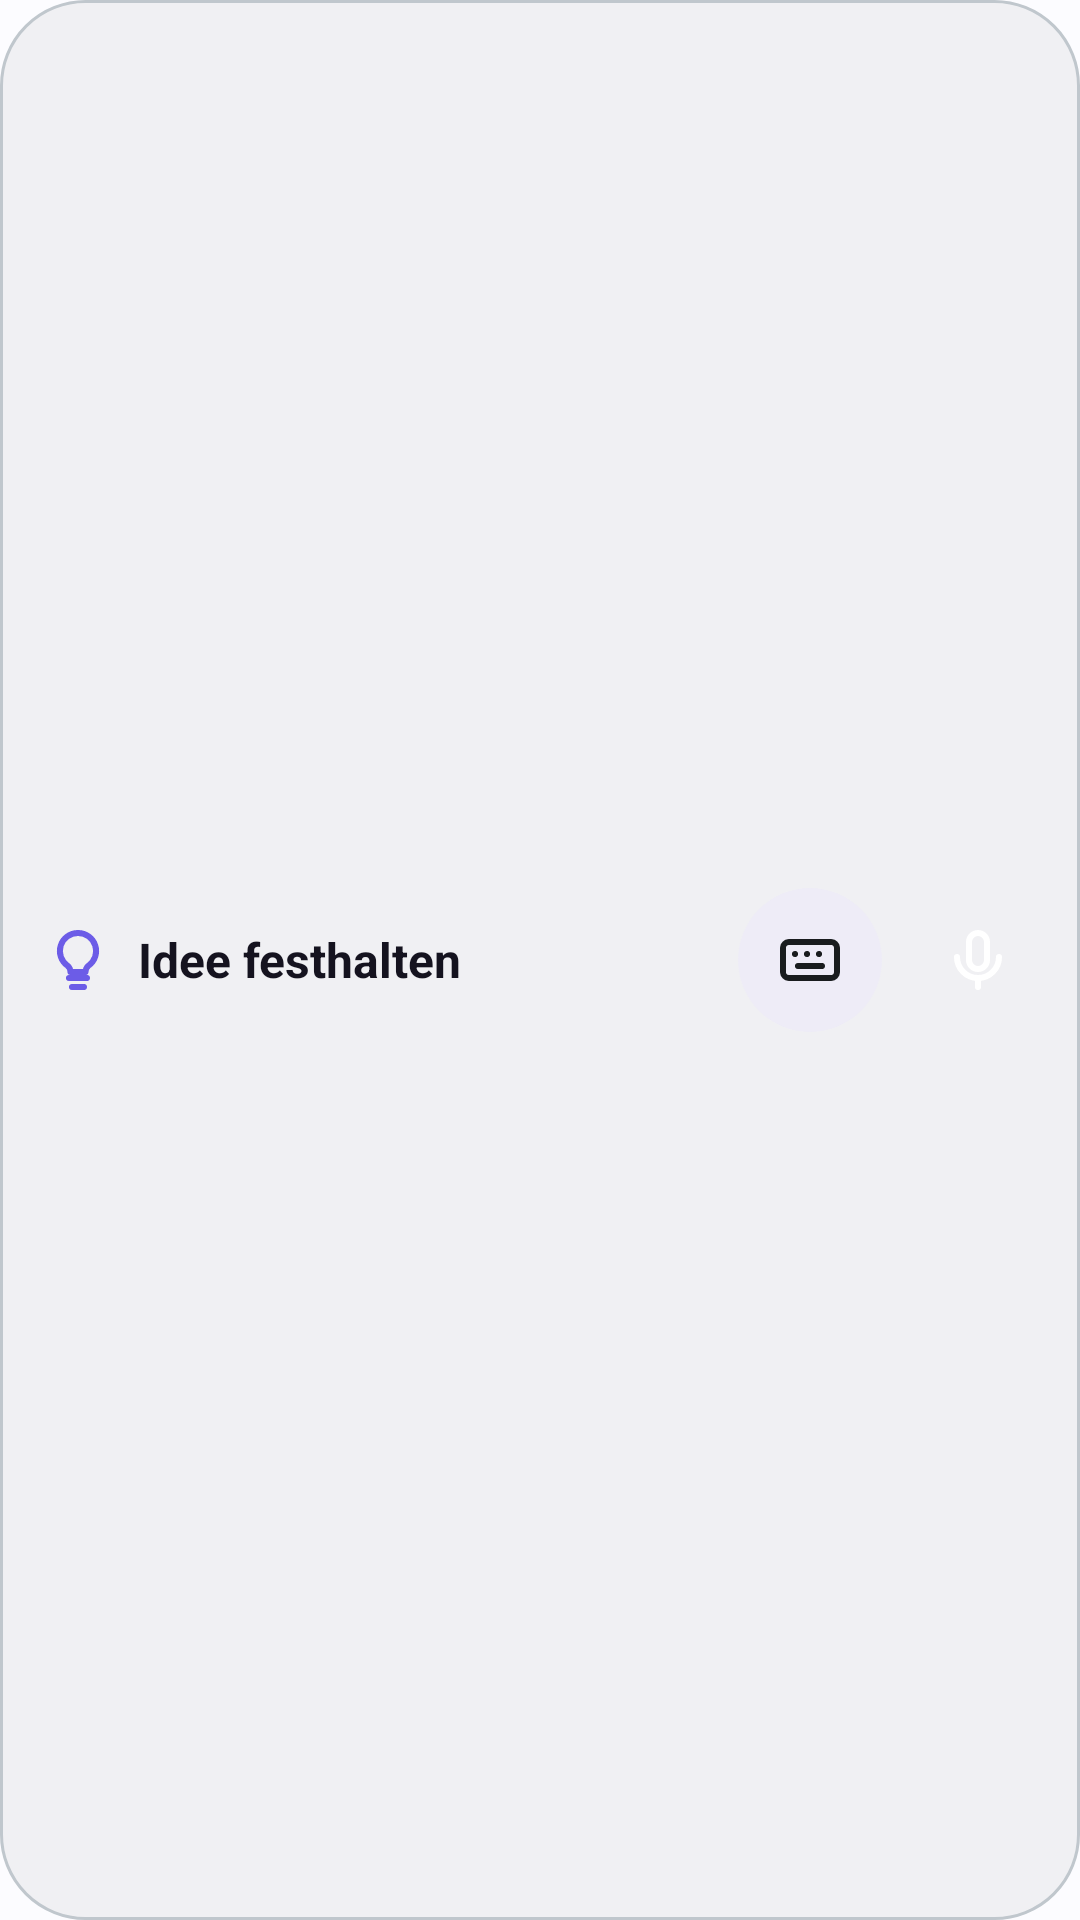

Icon bounding boxes for this 1080×1920 phone screenshot, format bbox=(x1, y1, x2, y2):
Idee tippen: bbox=(780, 939, 840, 981)
